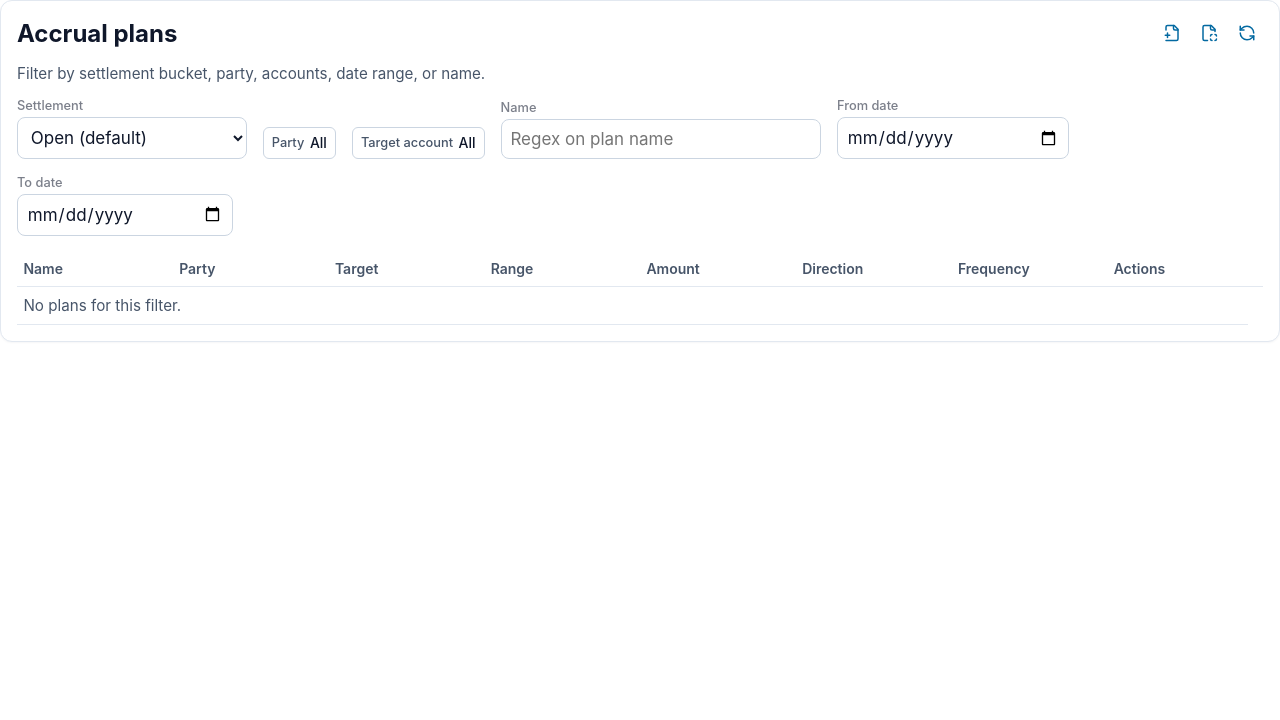
AccrualPlansSection create flow › previews then creates a plan via the create modal
Expected: the table named "Accrual plans register" is shown, x1=17 y1=252 x2=1263 y2=325
Step 1. Click the button named "New accrual plan" → {"x": 1172, "y": 33}, box x1=1156 y1=17 x2=1188 y2=49
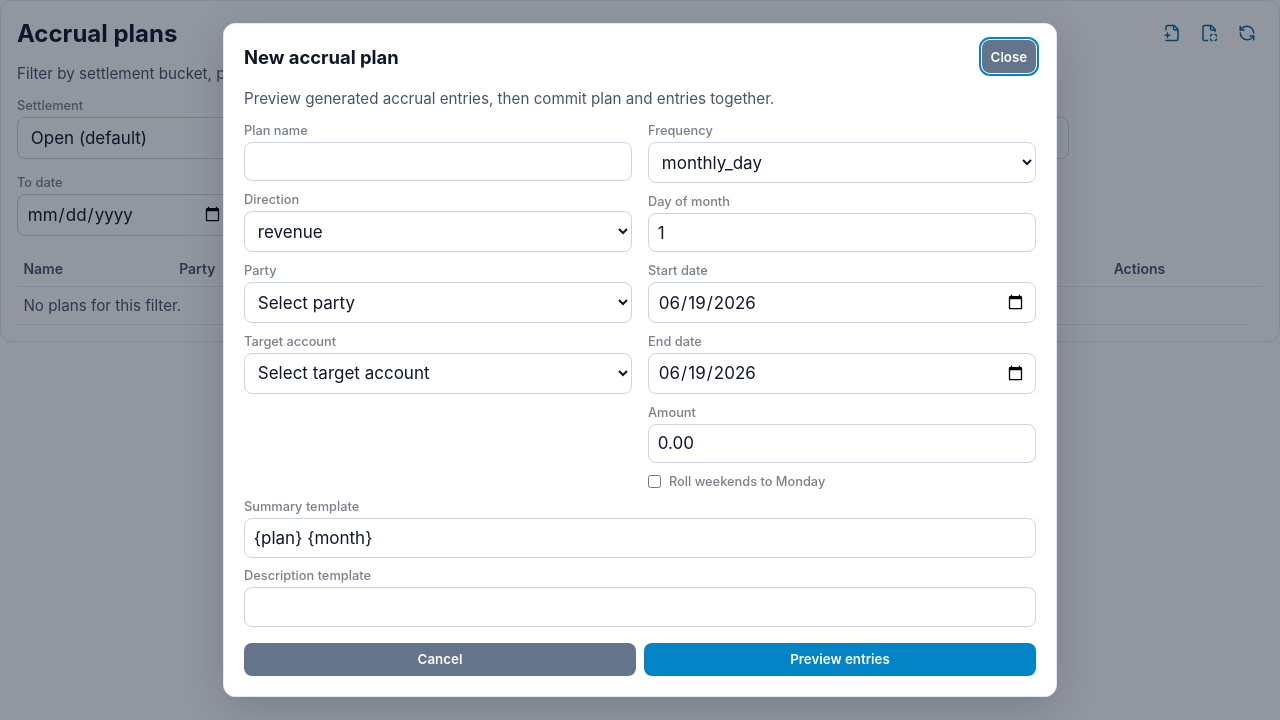
Expected: the heading "New accrual plan" is shown, x1=244 y1=46 x2=399 y2=68
Step 2. Type "Rent Plan" into the field labelled "Plan name" → {"x": 438, "y": 162}, box x1=244 y1=142 x2=632 y2=181
Step 3. Select "Acme Yard Maintenance" in the dropdown named "Plan party" → {"x": 438, "y": 302}, box x1=244 y1=282 x2=632 y2=323
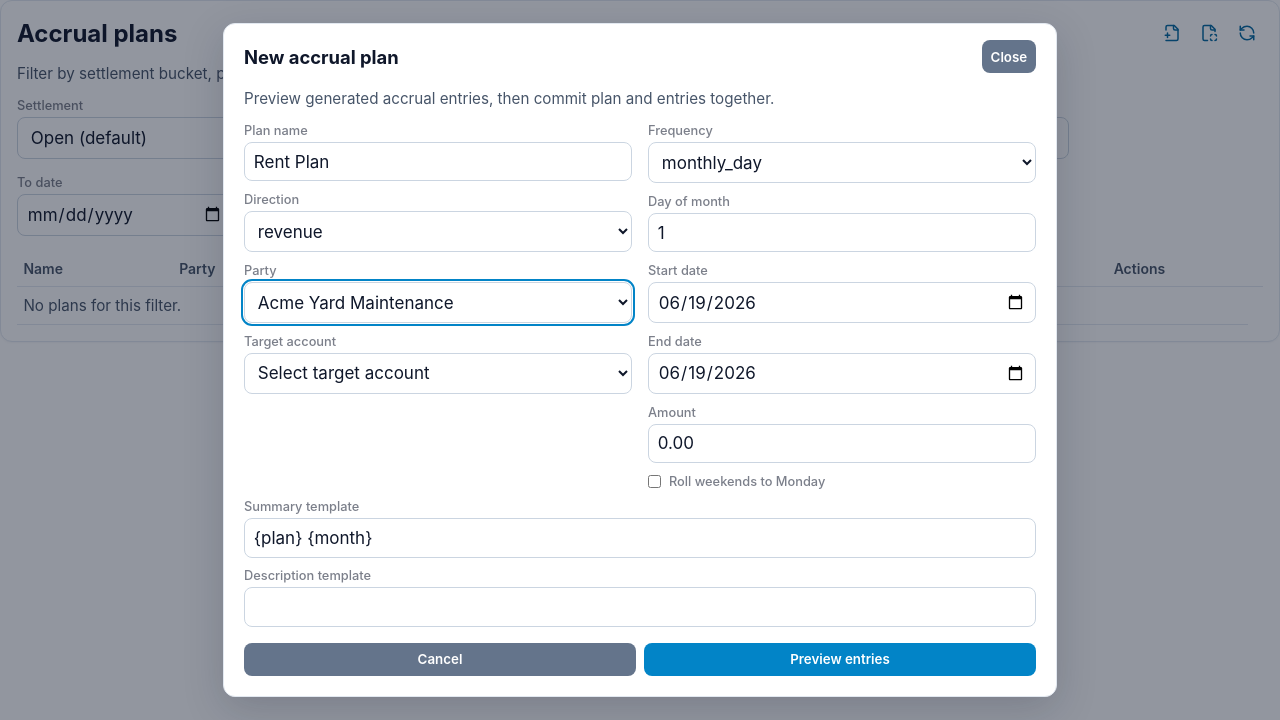
Step 4. Select "Rent Revenue" in the dropdown named "Plan target account" → {"x": 438, "y": 374}, box x1=244 y1=353 x2=632 y2=394
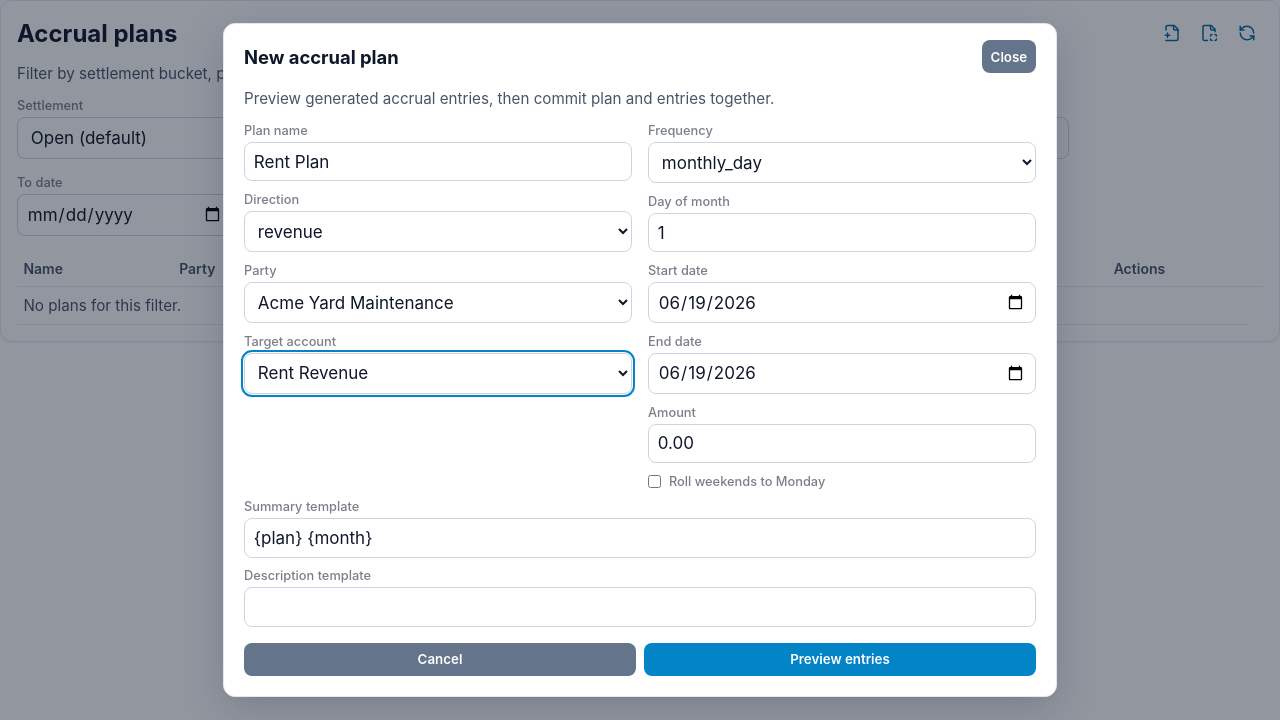
Step 5. Replace the text in the field named "Plan amount" with "100.00" → {"x": 842, "y": 444}, box x1=648 y1=424 x2=1036 y2=463
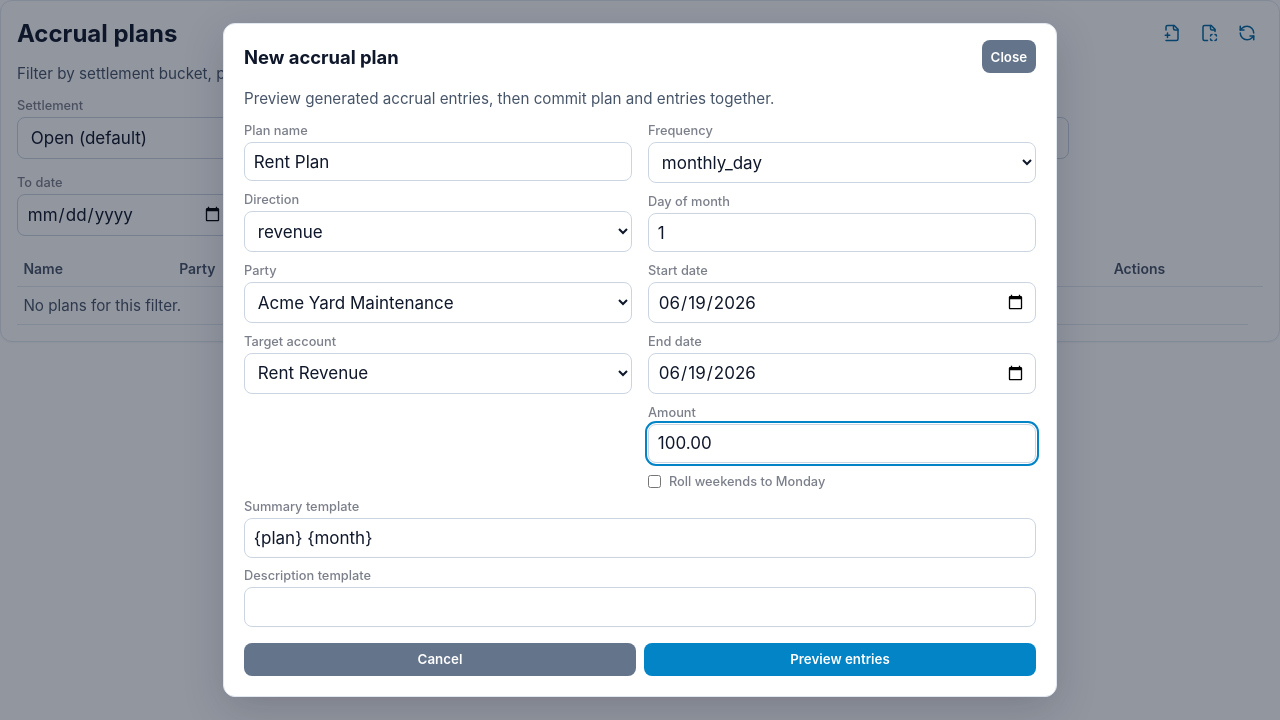
Step 6. Click the button "Preview entries" → {"x": 840, "y": 659}, box x1=644 y1=643 x2=1036 y2=676
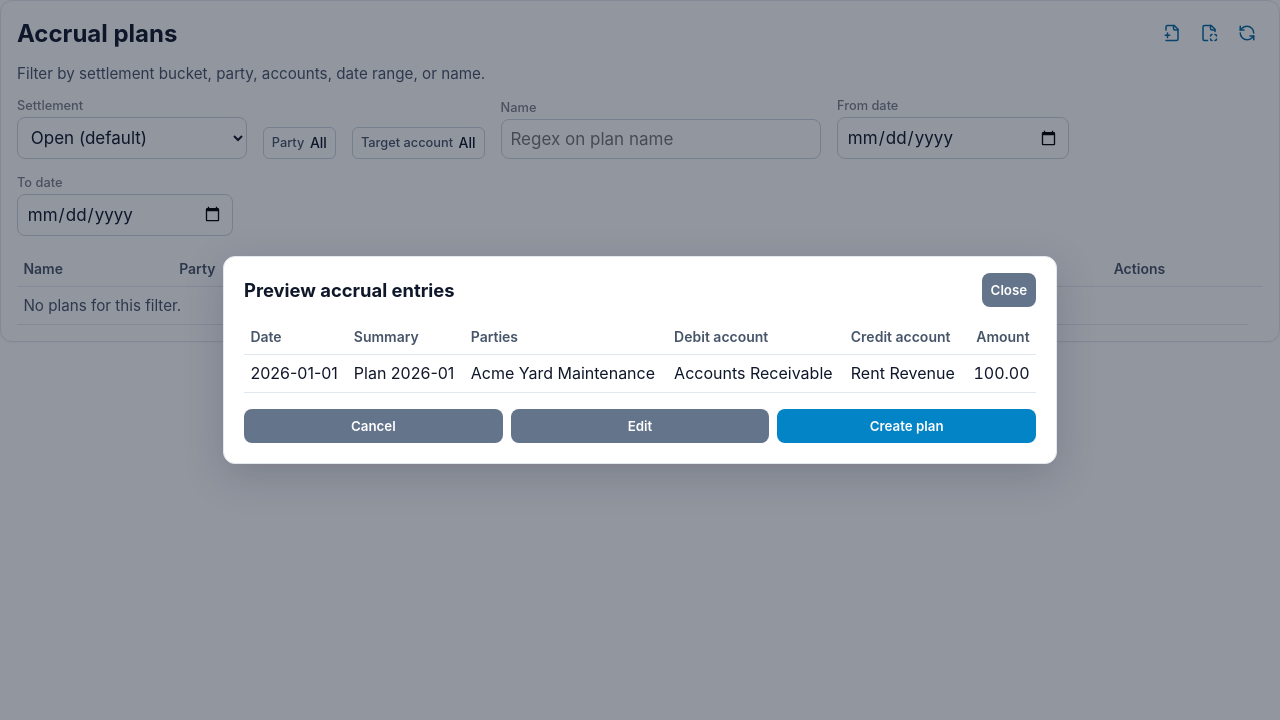
Expected: the heading "Preview accrual entries" is shown, x1=244 y1=279 x2=454 y2=301
Expected: the text "Plan 2026-01" is shown, x1=347 y1=354 x2=464 y2=393
Expected: the text "Acme Yard Maintenance" is shown, x1=464 y1=354 x2=668 y2=393
Step 7. Click the button "Create plan" → {"x": 907, "y": 426}, box x1=777 y1=409 x2=1036 y2=443
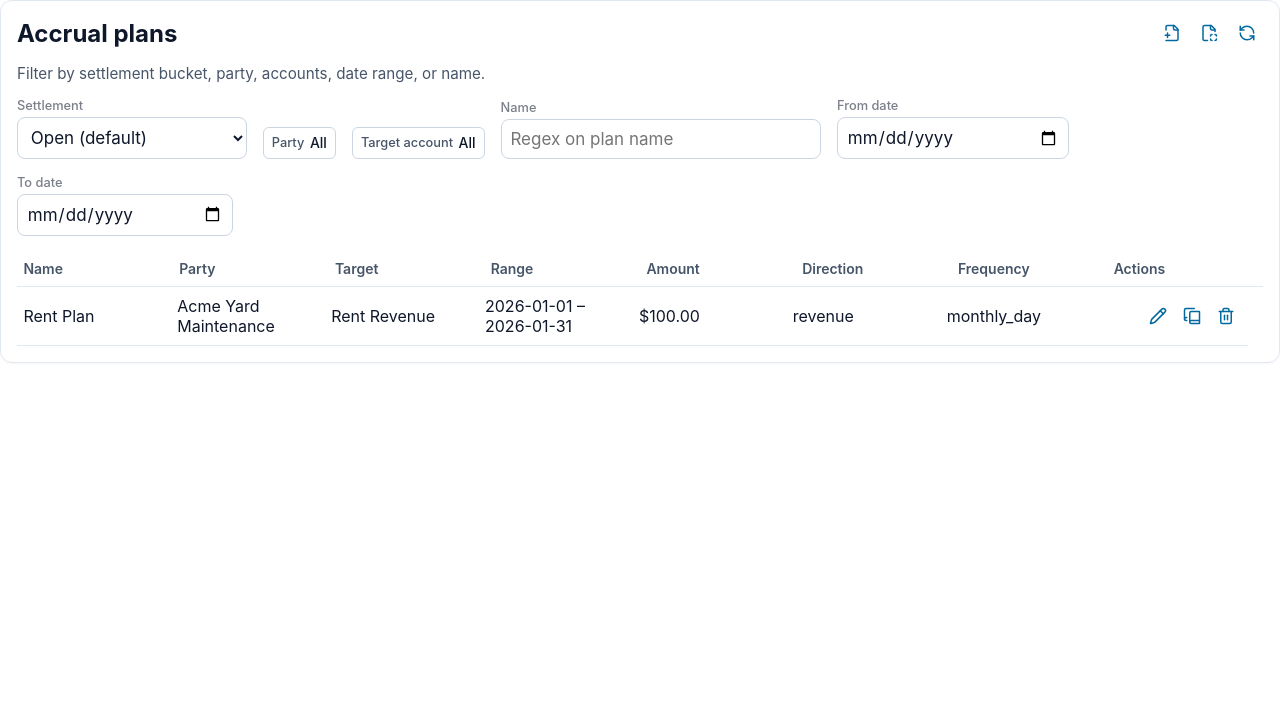
Expected: the heading "New accrual plan" is not shown
Expected: the text "Rent Plan" is shown, x1=17 y1=287 x2=171 y2=345
